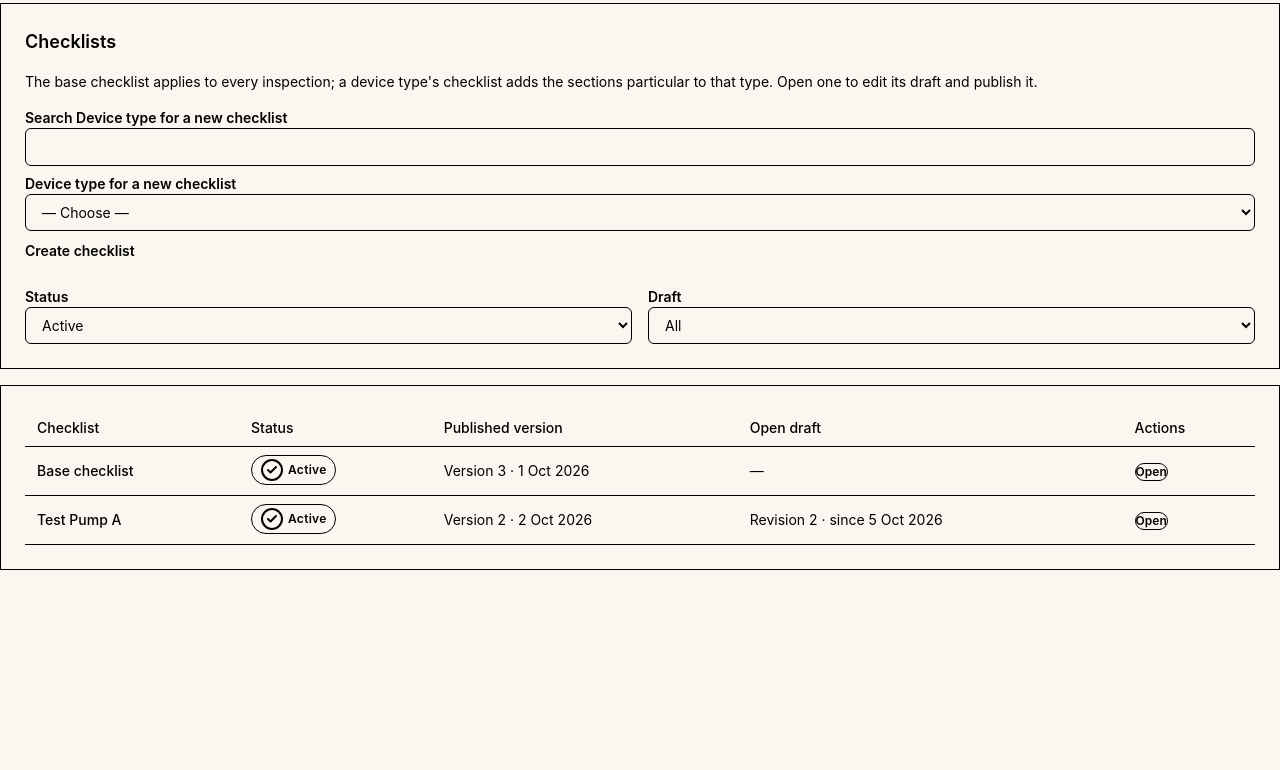
Test: P22-01 — the operator's checklists › lists the version history and opens a past version read-only
Click the button with aria-label "Open Test Pump A" at (1151, 521), box left=1135, top=512, right=1168, bottom=530
(page scrolled)
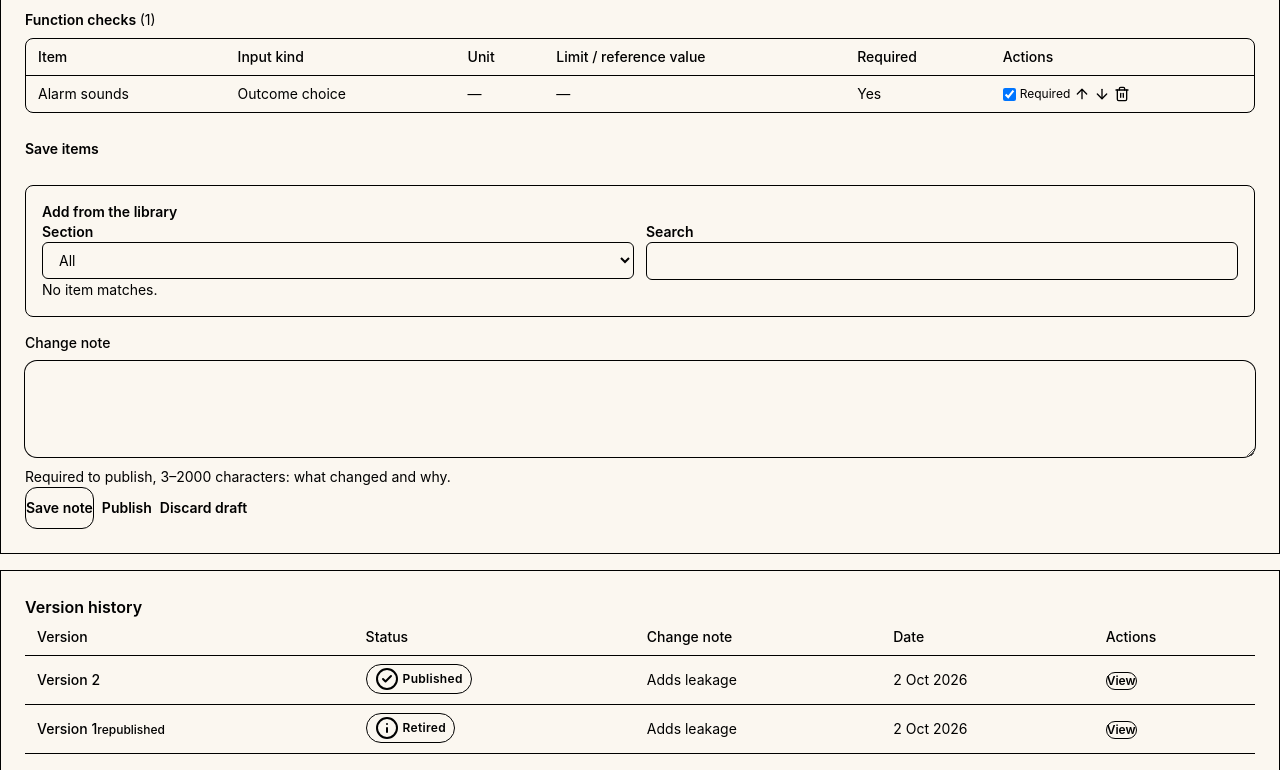
Expected: the number of cells "Adds leakage" is 2, left=635, top=656, right=881, bottom=704; left=635, top=704, right=881, bottom=754
Expected: the text "republished" is shown, left=97, top=722, right=165, bottom=737
Click the button with aria-label "View Version 2" at (1121, 681), box left=1106, top=672, right=1137, bottom=690
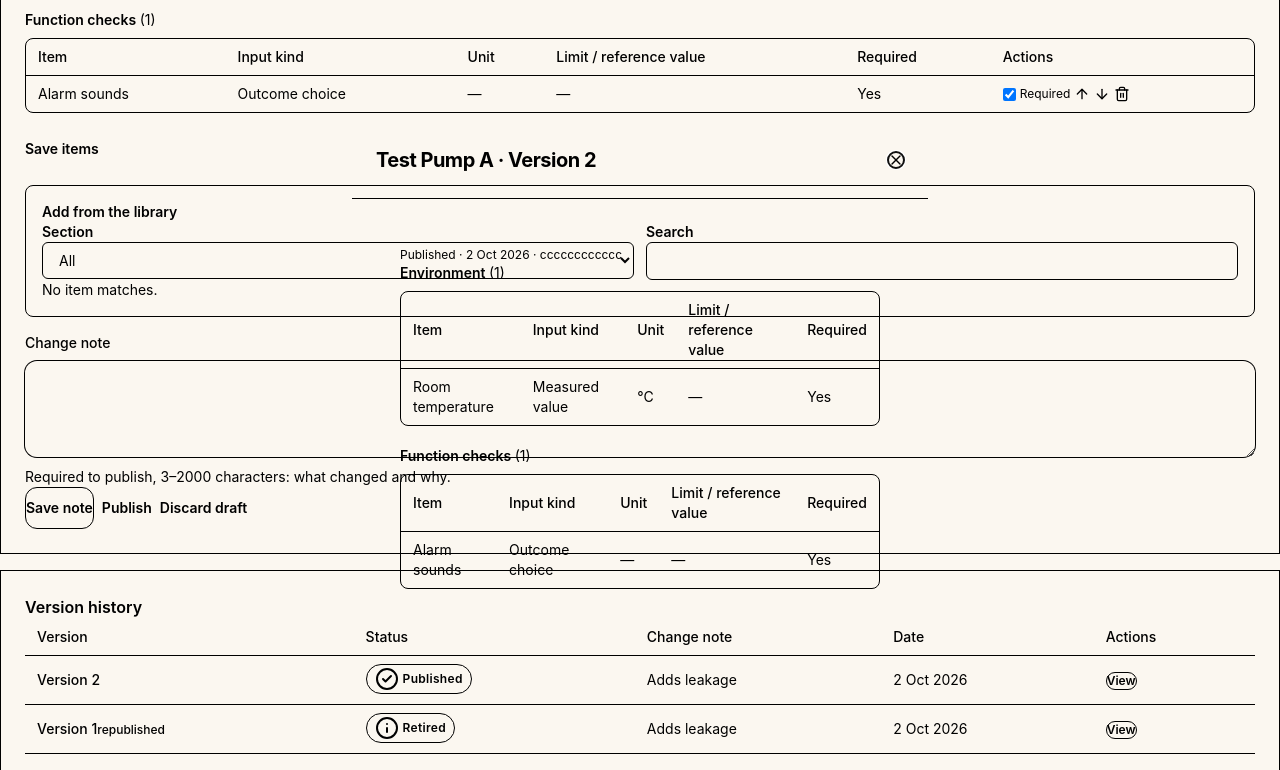
Expected: the element "Environment" is shown, left=400, top=262, right=880, bottom=426
Click the button named "Close" at (896, 160), box left=888, top=152, right=904, bottom=168
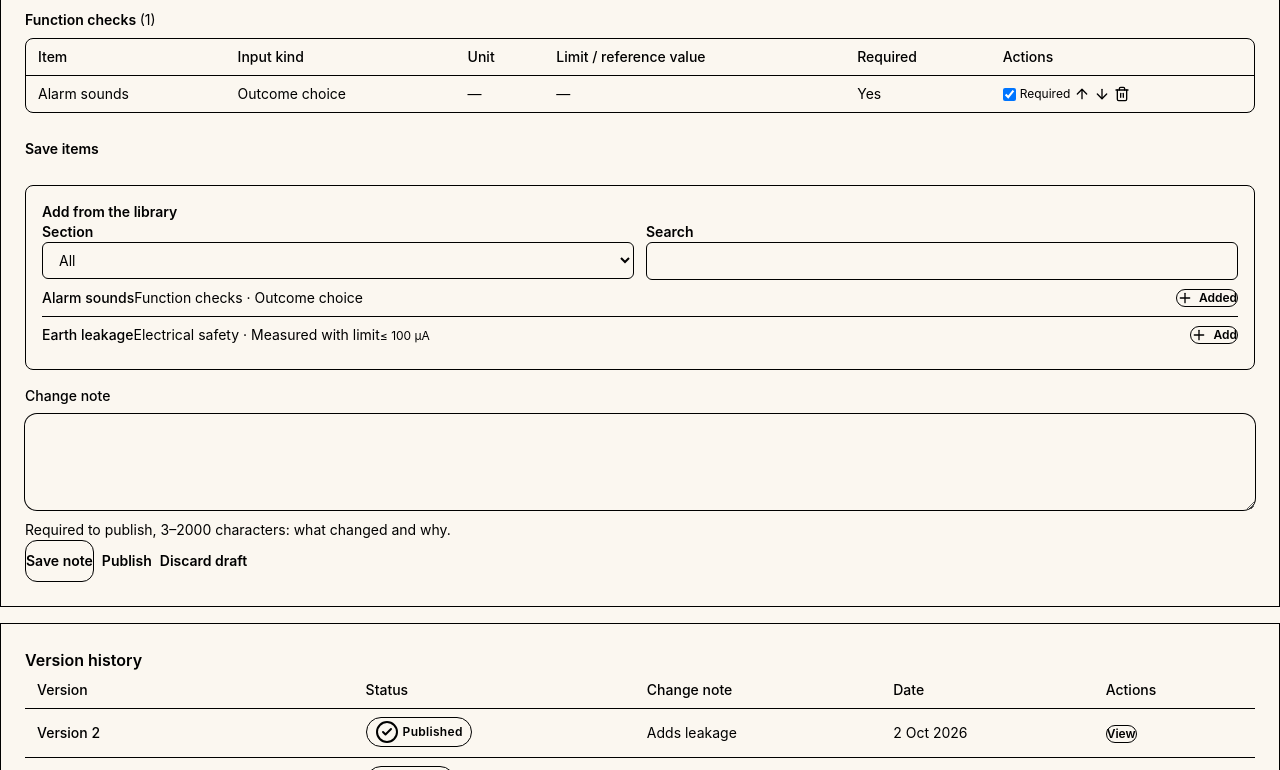
Expected: the dialog is gone
